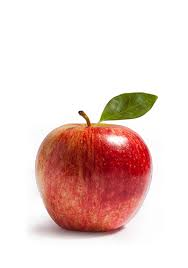apple: (37, 122, 151, 242)
